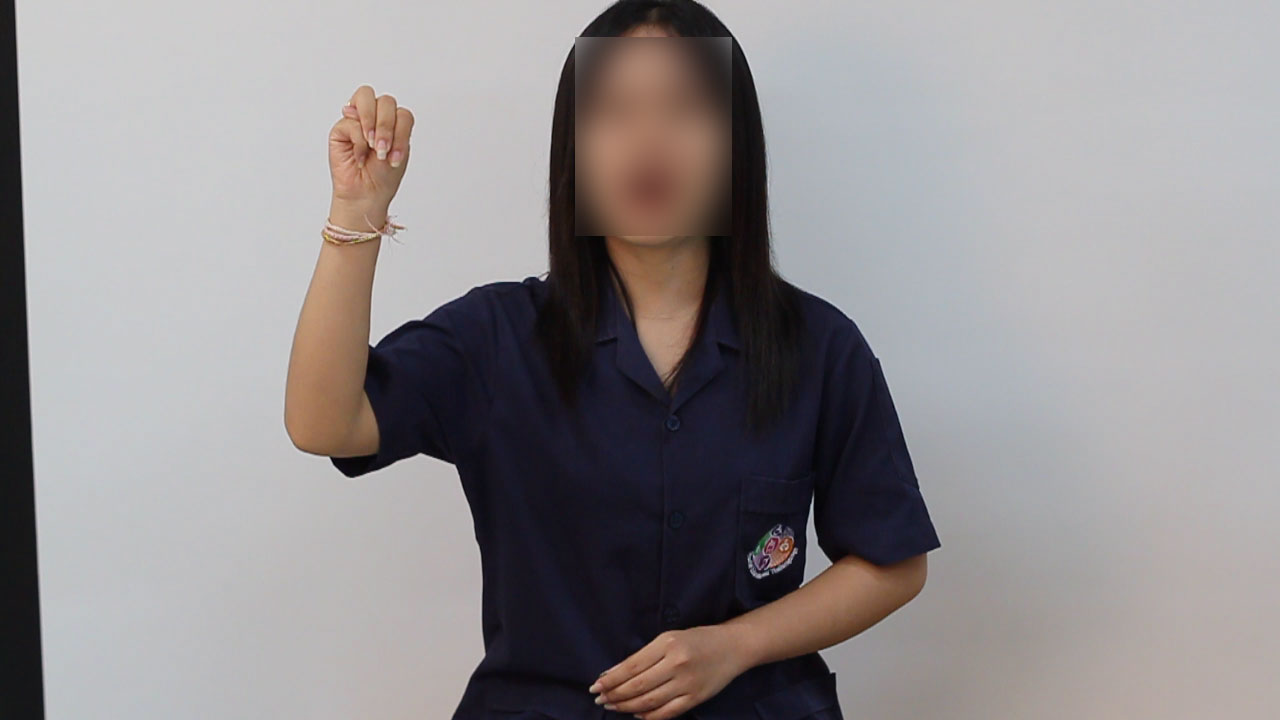mor: (318, 74, 424, 226)
